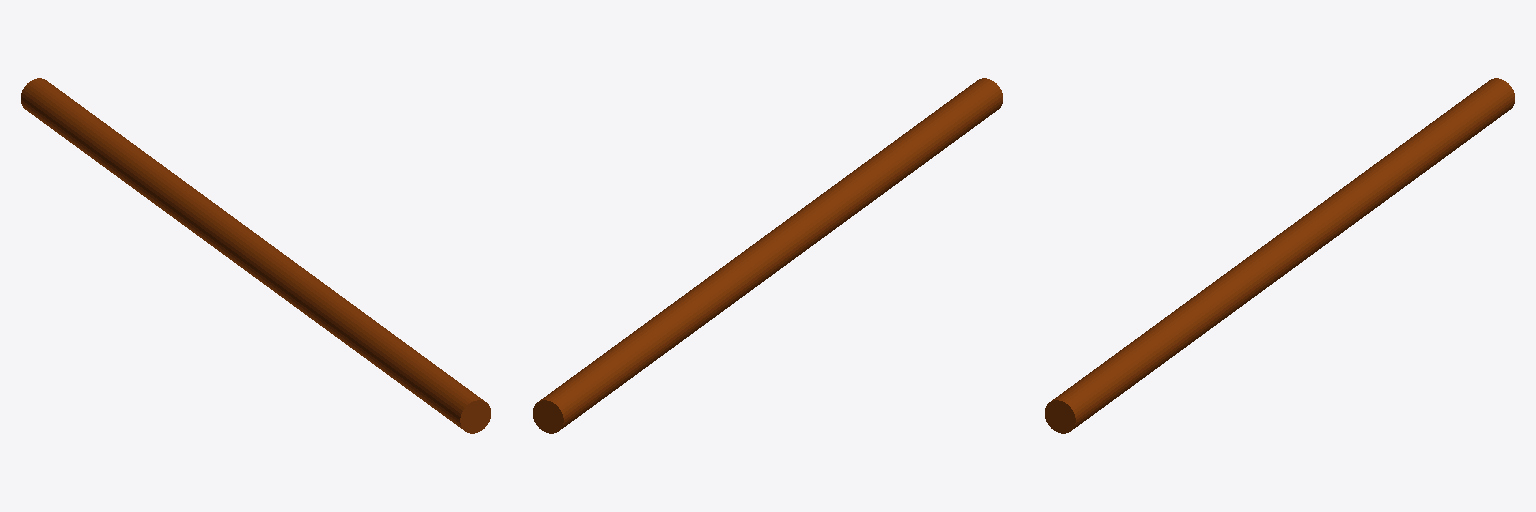
The robot description file, URDF, robot "cylinder":
<?xml version="1.0" ?>
<!-- =================================================================================== -->
<!-- |    This document was autogenerated by xacro from cylinder.xacro                 | -->
<!-- |    EDITING THIS FILE BY HAND IS NOT RECOMMENDED                                 | -->
<!-- =================================================================================== -->
<robot name="cylinder">
  <link name="world"/>
  <link name="base">
    <visual>
      <origin rpy="1.57079633 0 0" xyz="0 0 0"/>
      <geometry>
        <cylinder length="7.07106781185" radius="0.145"/>
      </geometry>
      <material name="cylinder_material">
        <color rgba="0.545 0.271 0.075 1.0"/>
        <texture filename="../textures/tree_bark.jpg"/>
      </material>
    </visual>
    <collision>
      <origin rpy="1.57079633 0 0" xyz="0 0 0"/>
      <geometry>
        <cylinder length="7.07106781185" radius="0.145"/>
      </geometry>
    </collision>
    <inertial>
      <origin rpy="0 0 0" xyz="0 0 0"/>
      <mass value="1"/>
      <inertia ixx="4.171922916648429" ixy="0.0" ixz="0.0" iyy="4.171922916648429" iyz="0.0" izz="24.999999999890573"/>
    </inertial>
  </link>
  <joint name="base_joint" type="fixed">
    <parent link="world"/>
    <child link="base"/>
    <origin rpy="0 0 0" xyz="0.0 0.0 0.0"/>
  </joint>
</robot>

--- Render facts (derived) ---
Views: 3 orthographic renders of the robot side by side, from view 1: azimuth 30°, elevation 25°; view 2: azimuth 150°, elevation 25°; view 3: azimuth 330°, elevation 25°.
Robot: cylinder — 2 links, 1 joints (1 fixed); root link world; default pose: every joint at zero.
Links seen in each view (by area): view 1: base; view 2: base; view 3: base.
Link boxes in pixels (left/top/right/bottom): base: left=21, top=78, right=490, bottom=433; base: left=533, top=78, right=1002, bottom=433; base: left=1045, top=78, right=1514, bottom=433.
Size in the robot's own frame: 0.29 by 7.07 by 0.29 metres.
Geometry: primitives only (box / cylinder / sphere), no mesh files.
